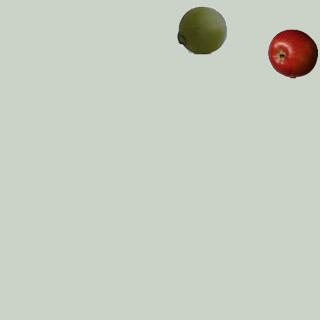Apple Braeburn: (267, 28, 317, 78)
Grape White 4: (176, 4, 226, 54)
